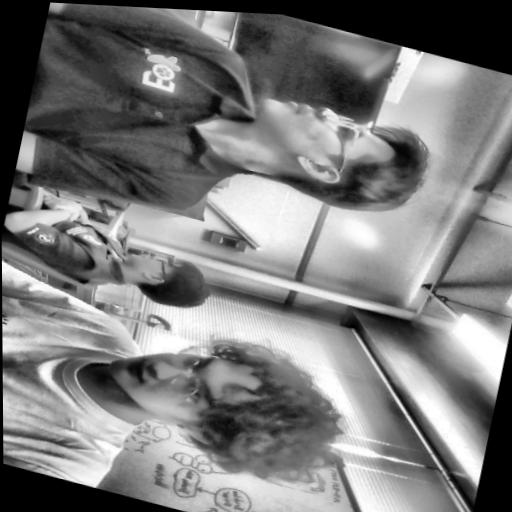Daifuku: (88, 303, 363, 499)
Not Daifuku: (233, 84, 435, 233), (115, 244, 220, 318)
